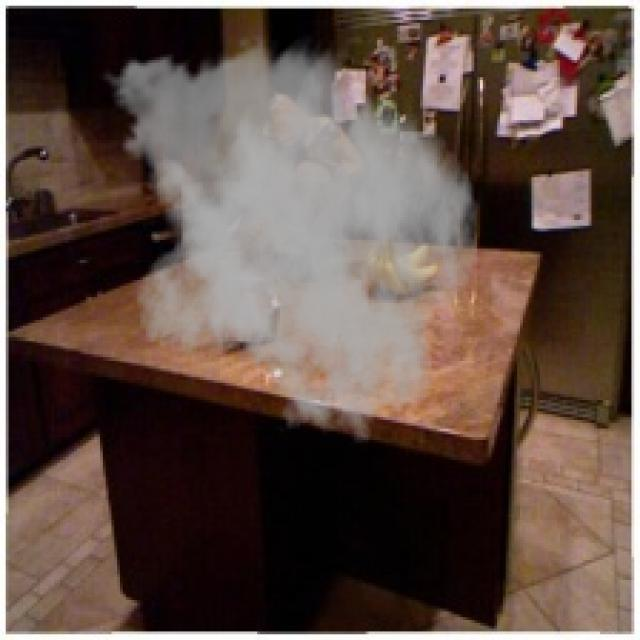Smoke: (97, 31, 480, 446)
